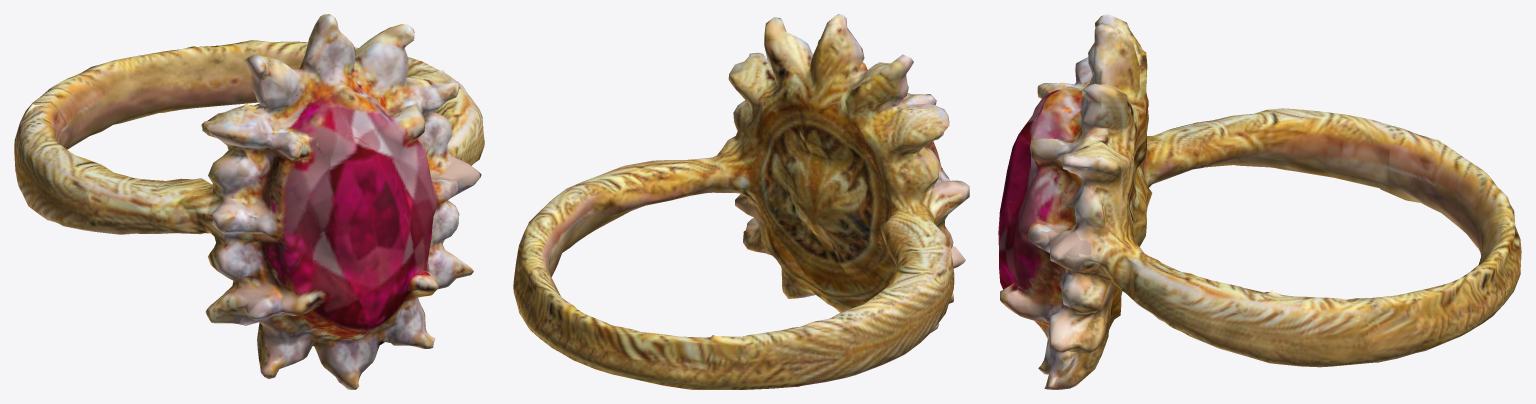
The model's file is sample_1.glb.
3 views of the same model, side by side, from view 1: azimuth 30°, elevation 25°; view 2: azimuth 150°, elevation 25°; view 3: azimuth 270°, elevation 25° (orthographic). The views are drawn at different scales.
Size of the model in its own units: 1.09 by 0.8886 by 1.2.
1 material, 1 textured.
